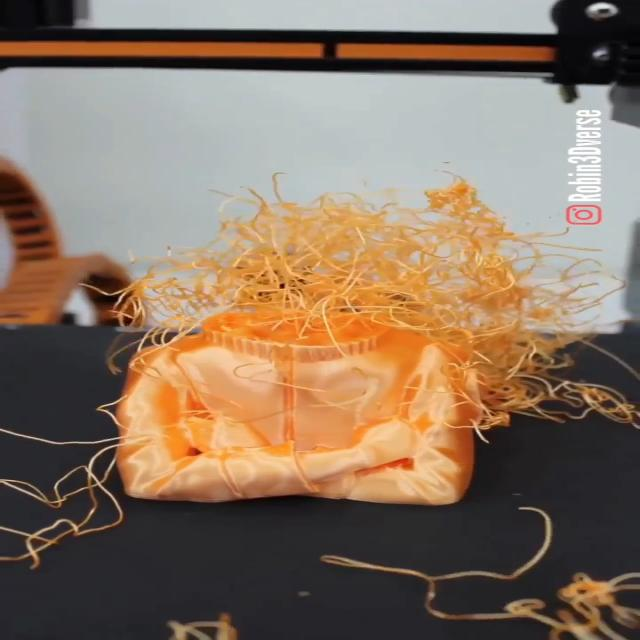spaghetti: (80, 187, 640, 442), (296, 511, 640, 640), (0, 415, 172, 572), (148, 605, 260, 640)
